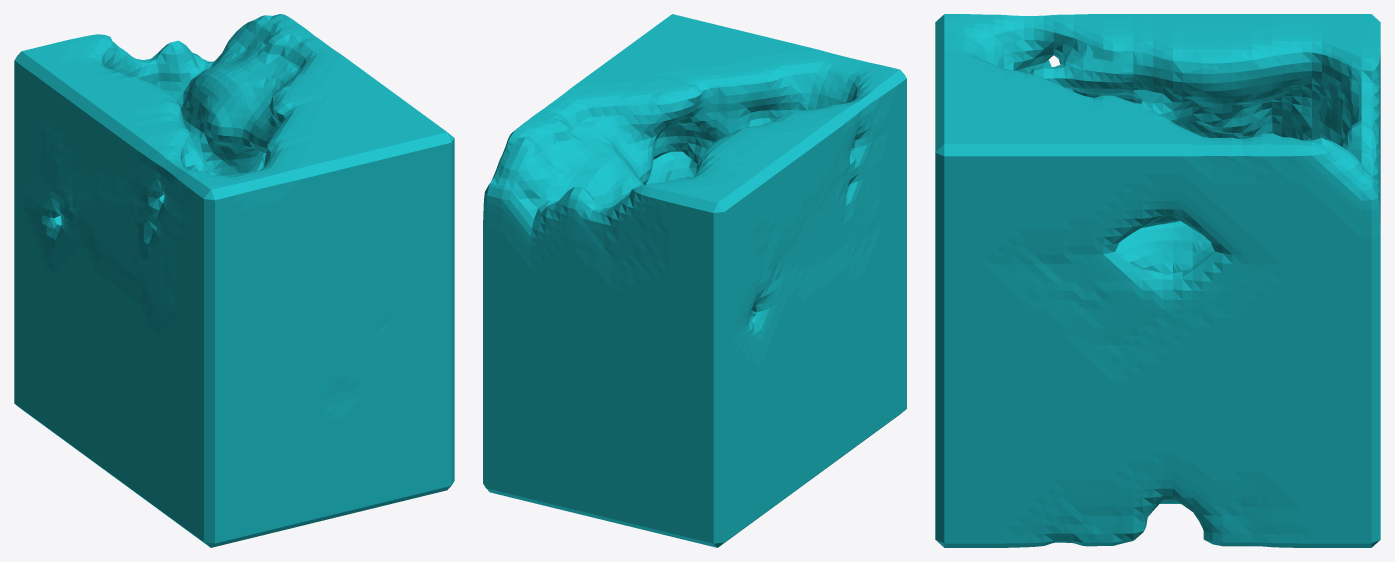
The picture shows the model from 3 angles, left to right: view 1: azimuth 30°, elevation 25°; view 2: azimuth 150°, elevation 25°; view 3: azimuth 270°, elevation 25°; orthographic projection. The views are drawn at different scales.
Parts seen in each view (by area): view 1: Liquid_Domain; view 2: Liquid_Domain; view 3: Liquid_Domain.
Part boxes in pixels (box(x1,y1,x2,y2)): Liquid_Domain: box(14, 14, 454, 547); Liquid_Domain: box(483, 14, 906, 547); Liquid_Domain: box(935, 14, 1380, 547).
Bounding box in the file's own units: 79.09 × 108 × 108.
